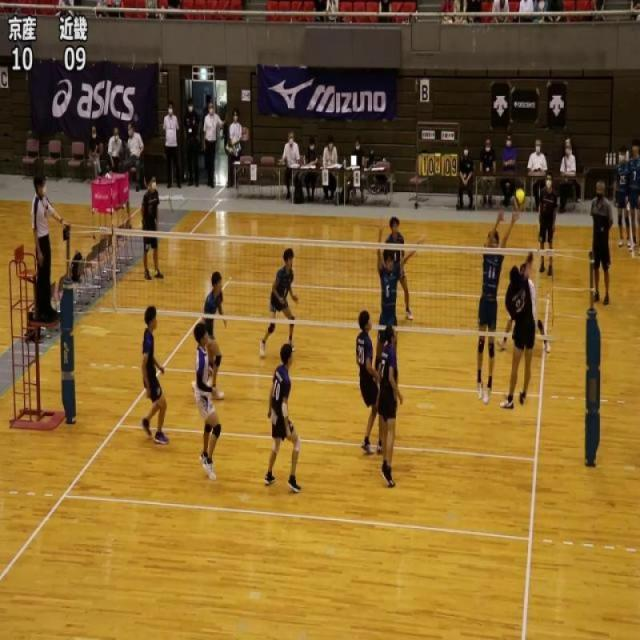volleyball: (514, 187, 526, 210)
